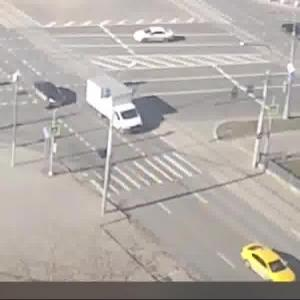car: (83, 75, 147, 135), (241, 241, 296, 283), (132, 25, 188, 53), (36, 80, 66, 113)
